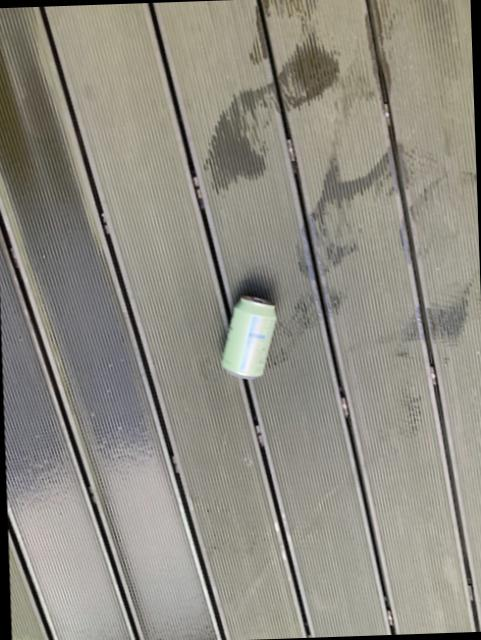metal: (222, 296, 276, 378)
